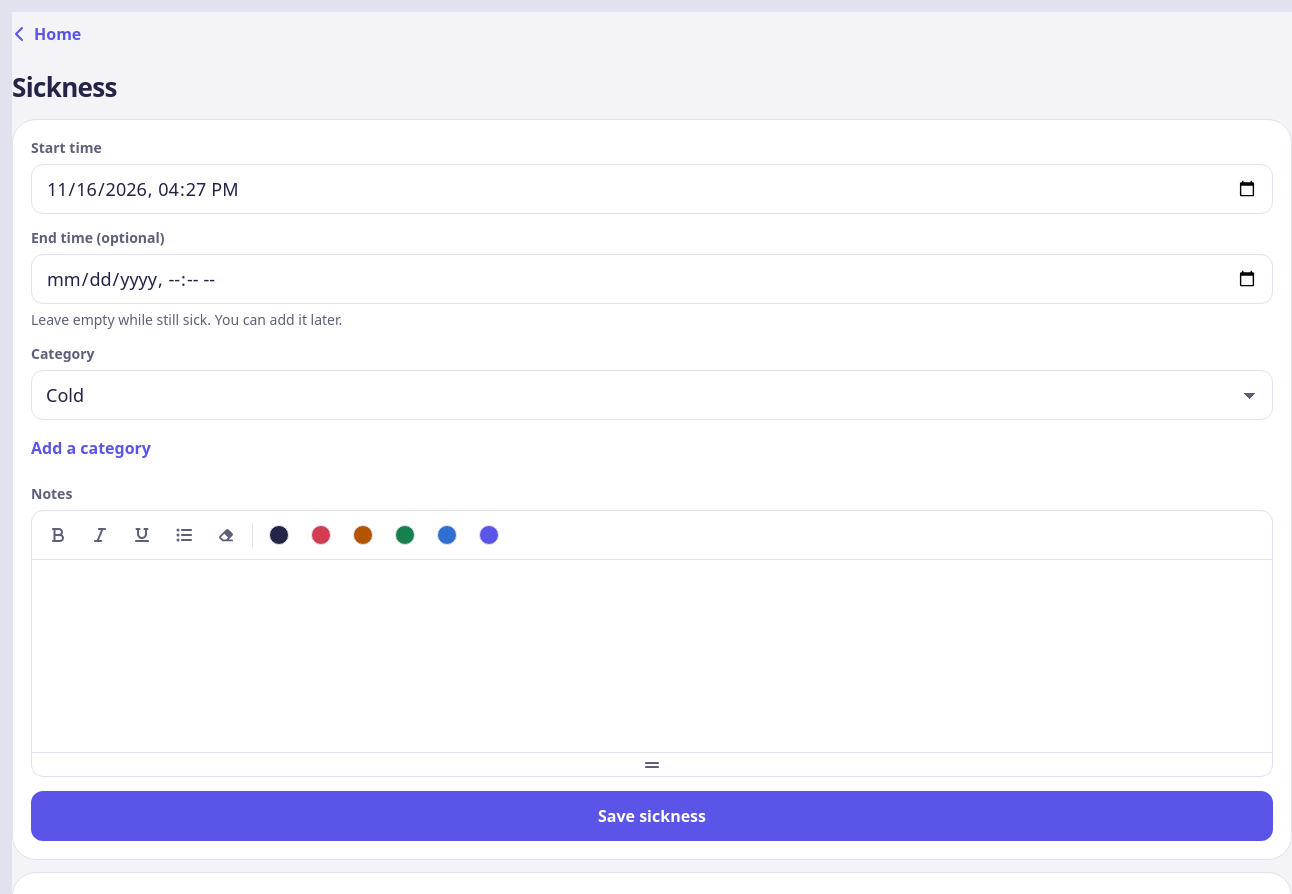
Test: SicknessLogPage › rejects an end time before the start time
The image size is (1292, 894).
Replace the text in the field labelled "Start time" with "2026-11-10T08:00" at (652, 189), box [31,164,1273,214]
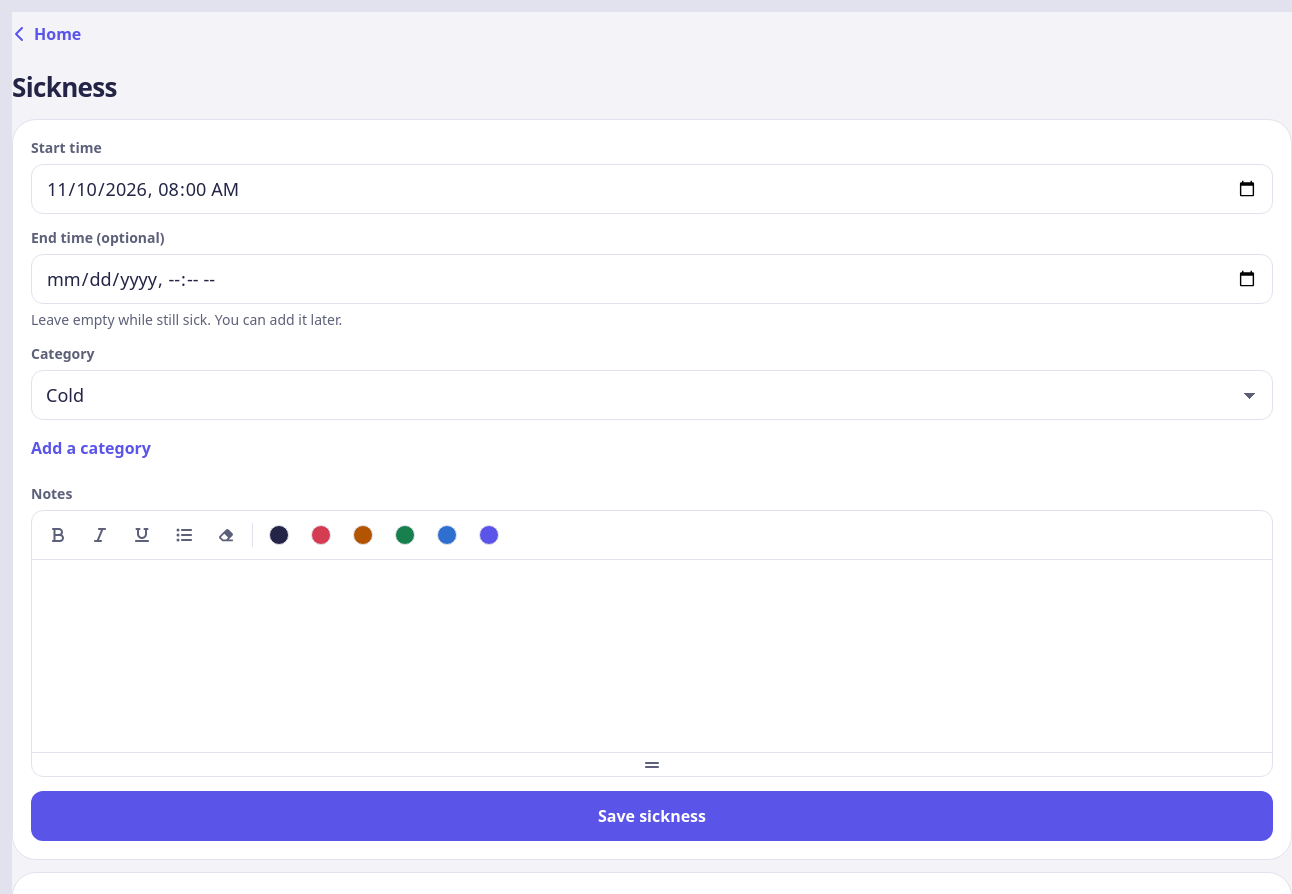
Type "2026-11-09T08:00" into the field labelled "End time (optional)" at (652, 279), box [31,254,1273,304]
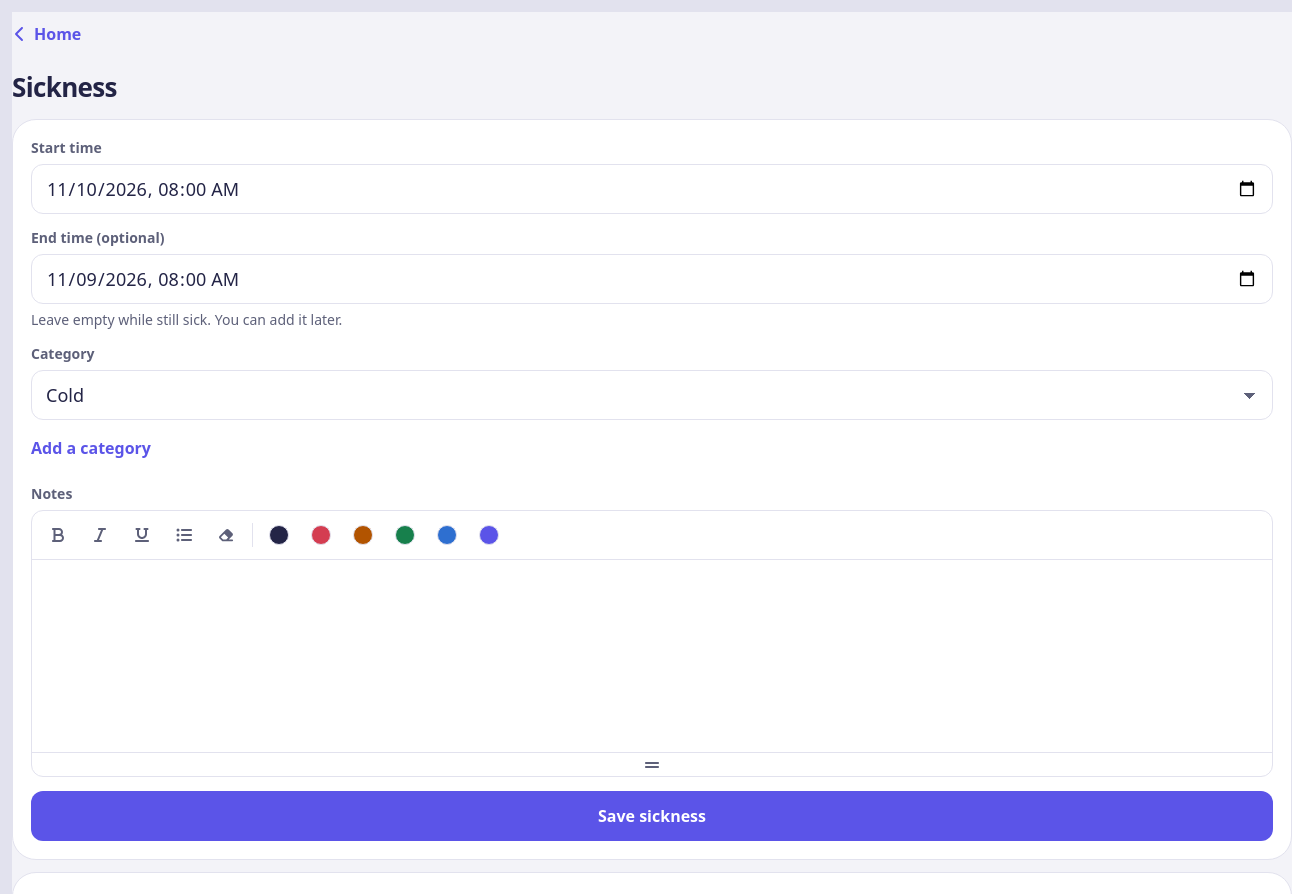
Click the button "Save sickness" at (652, 816), box [31,791,1273,841]
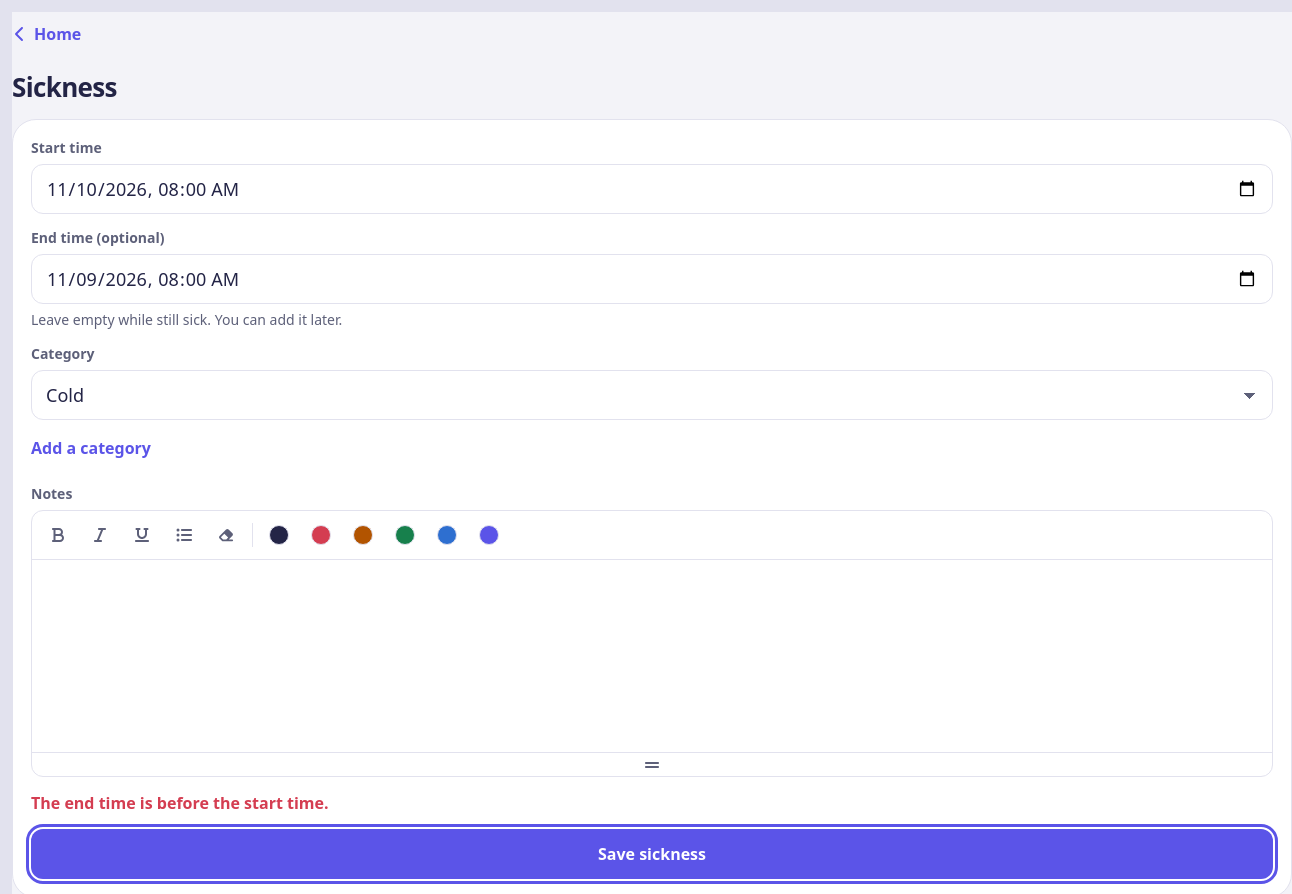
Expected: the message reads "The end time is before the start time.", [31,792,329,814]
